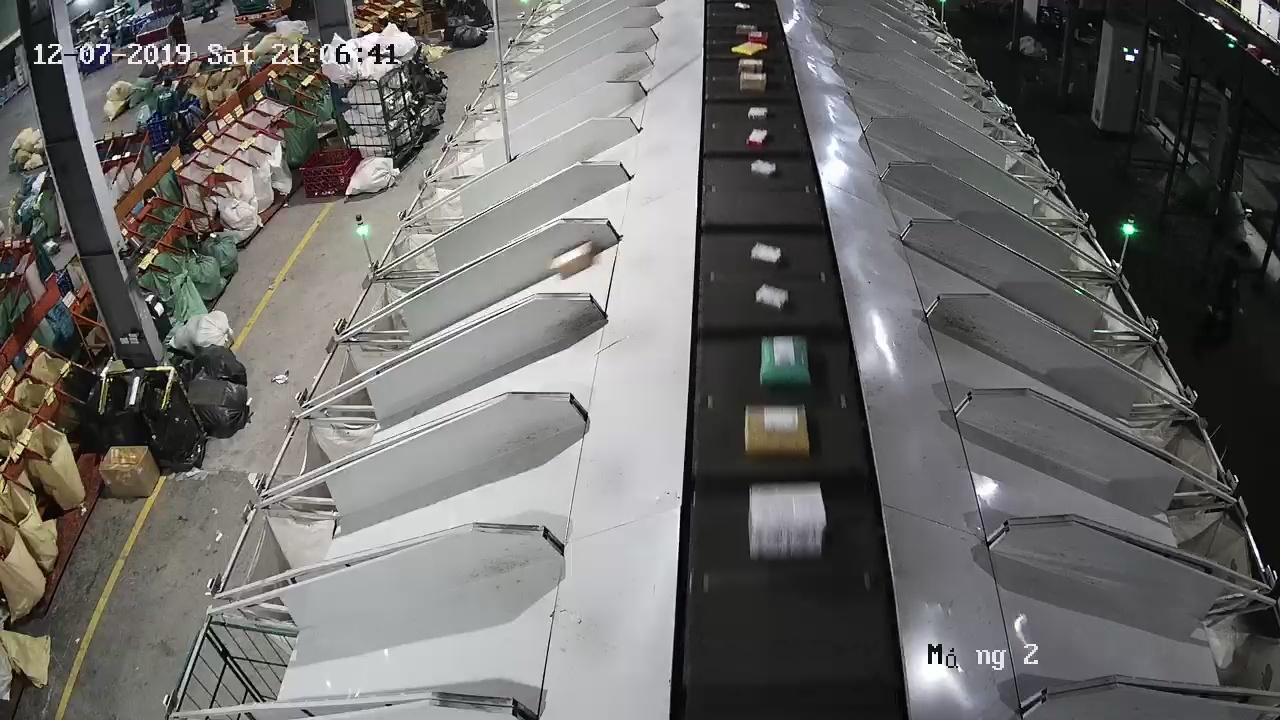parcel: (547, 240, 594, 280)
